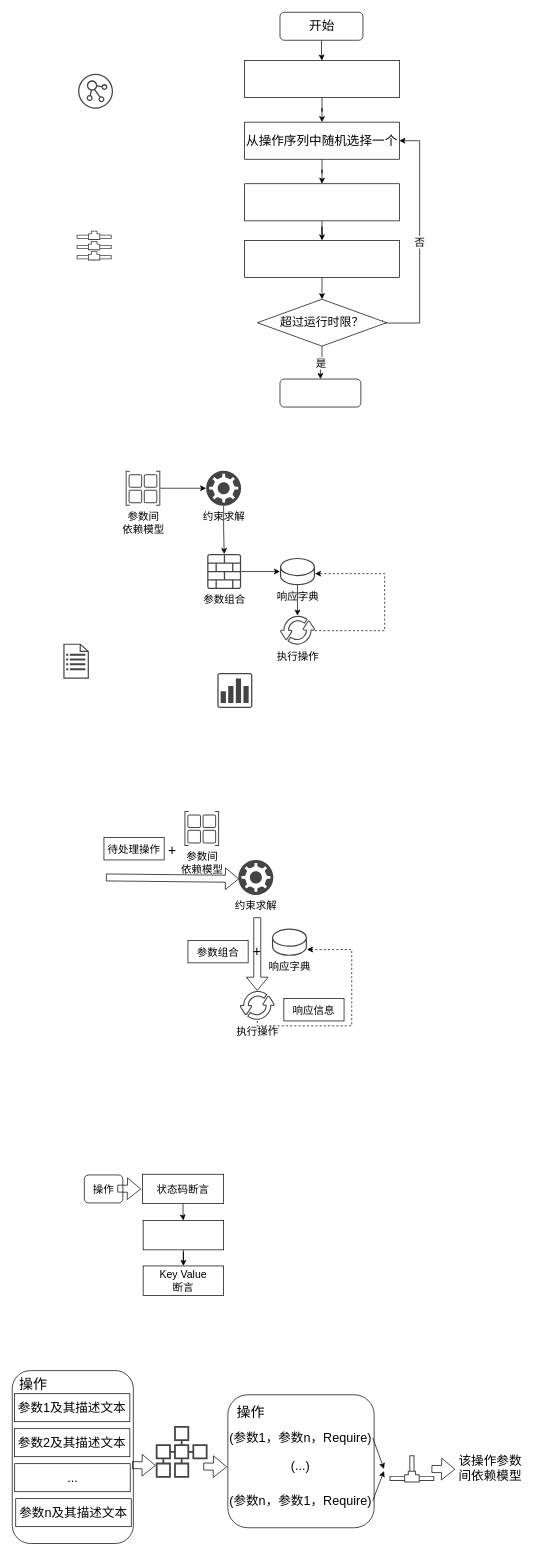
The diagram is 537 pixels wide and 1556 high, and some of its shapes have lost their labels. Each missing label, with the centre of its shape:
"JSON Schema 断言" goes at pixel 183 1235.
"OpenAPI文档" goes at pixel 76 660.
"从候选操作集随机选择一个，形成新序列" goes at pixel 321 259.
"分类模型" goes at pixel 181 1451.
"初始化操作序列集" goes at pixel 321 79.
"去除矛盾关系" goes at pixel 411 1468.
"操作序列" goes at pixel 93 245.
"操作间 依赖模型" goes at pixel 95 91.
"根据操作间依赖模型确定候选操作集" goes at pixel 321 202.
"测试结果" goes at pixel 234 690.
"结束" goes at pixel 320 392.
